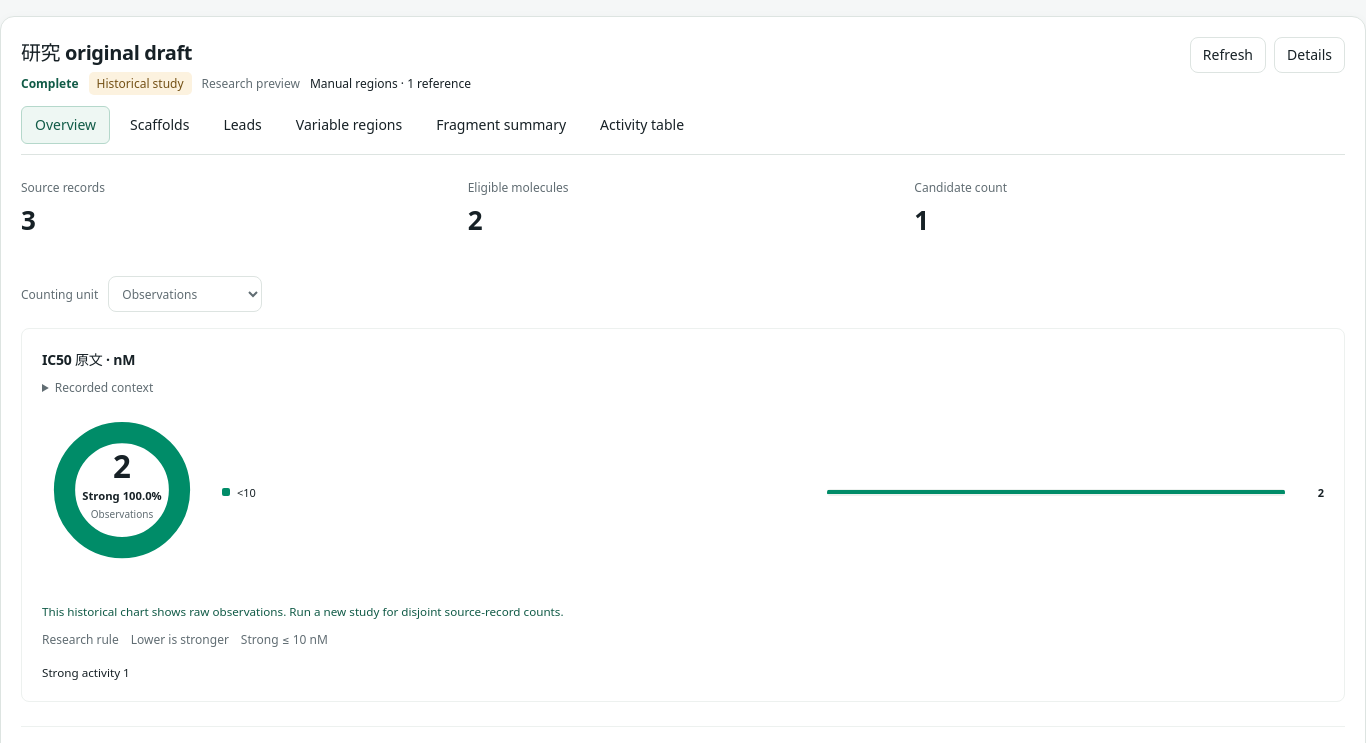
Test: compact but truthful study heading › keeps real completion, historical scope and research status in one header without rewriting the user title
The width and height of the screenshot is (1366, 743).
Expected: the heading "研究 original draft" is shown, [21, 39, 192, 66]
Expected: the header with class "sar-study-header" is shown, [21, 37, 1345, 96]
Step 1. Click the button "Details" → {"x": 1310, "y": 55}, box [1274, 37, 1345, 73]
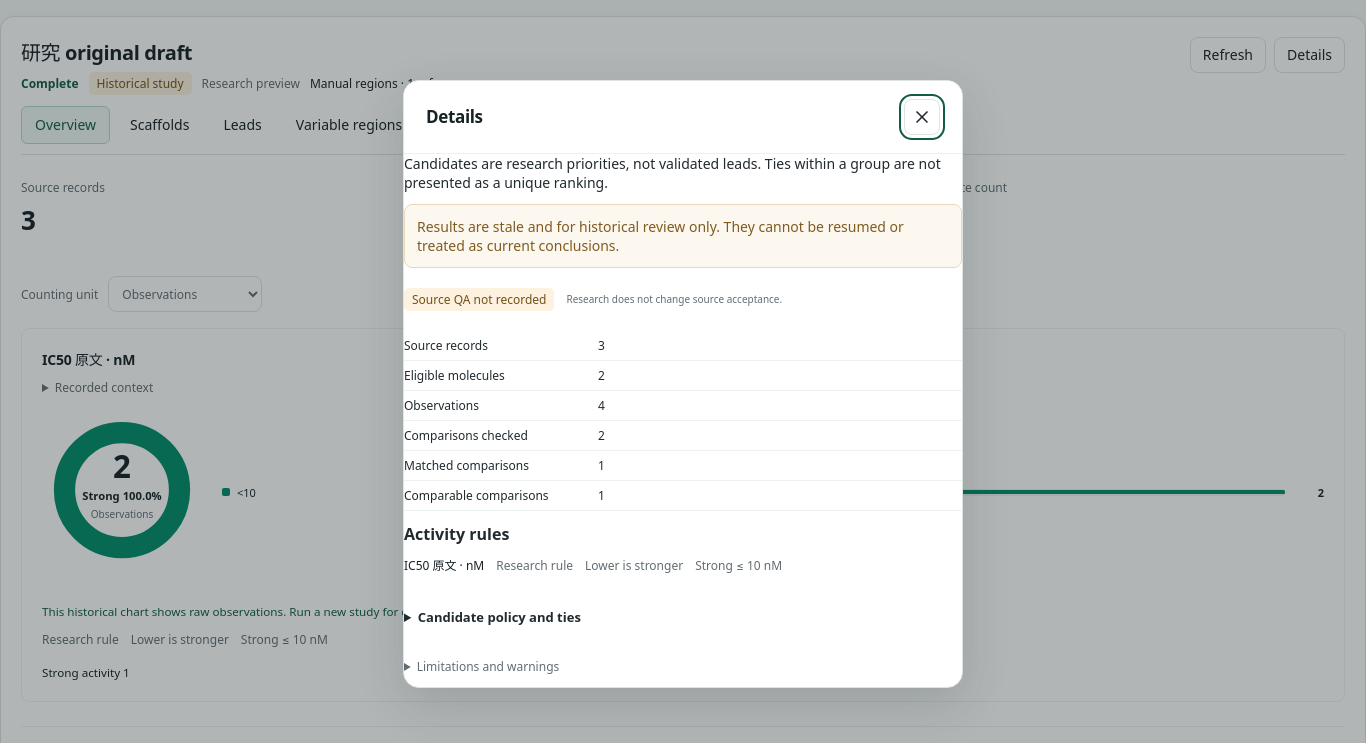
Now the dialog "Details" is shown, box [403, 80, 963, 688]
